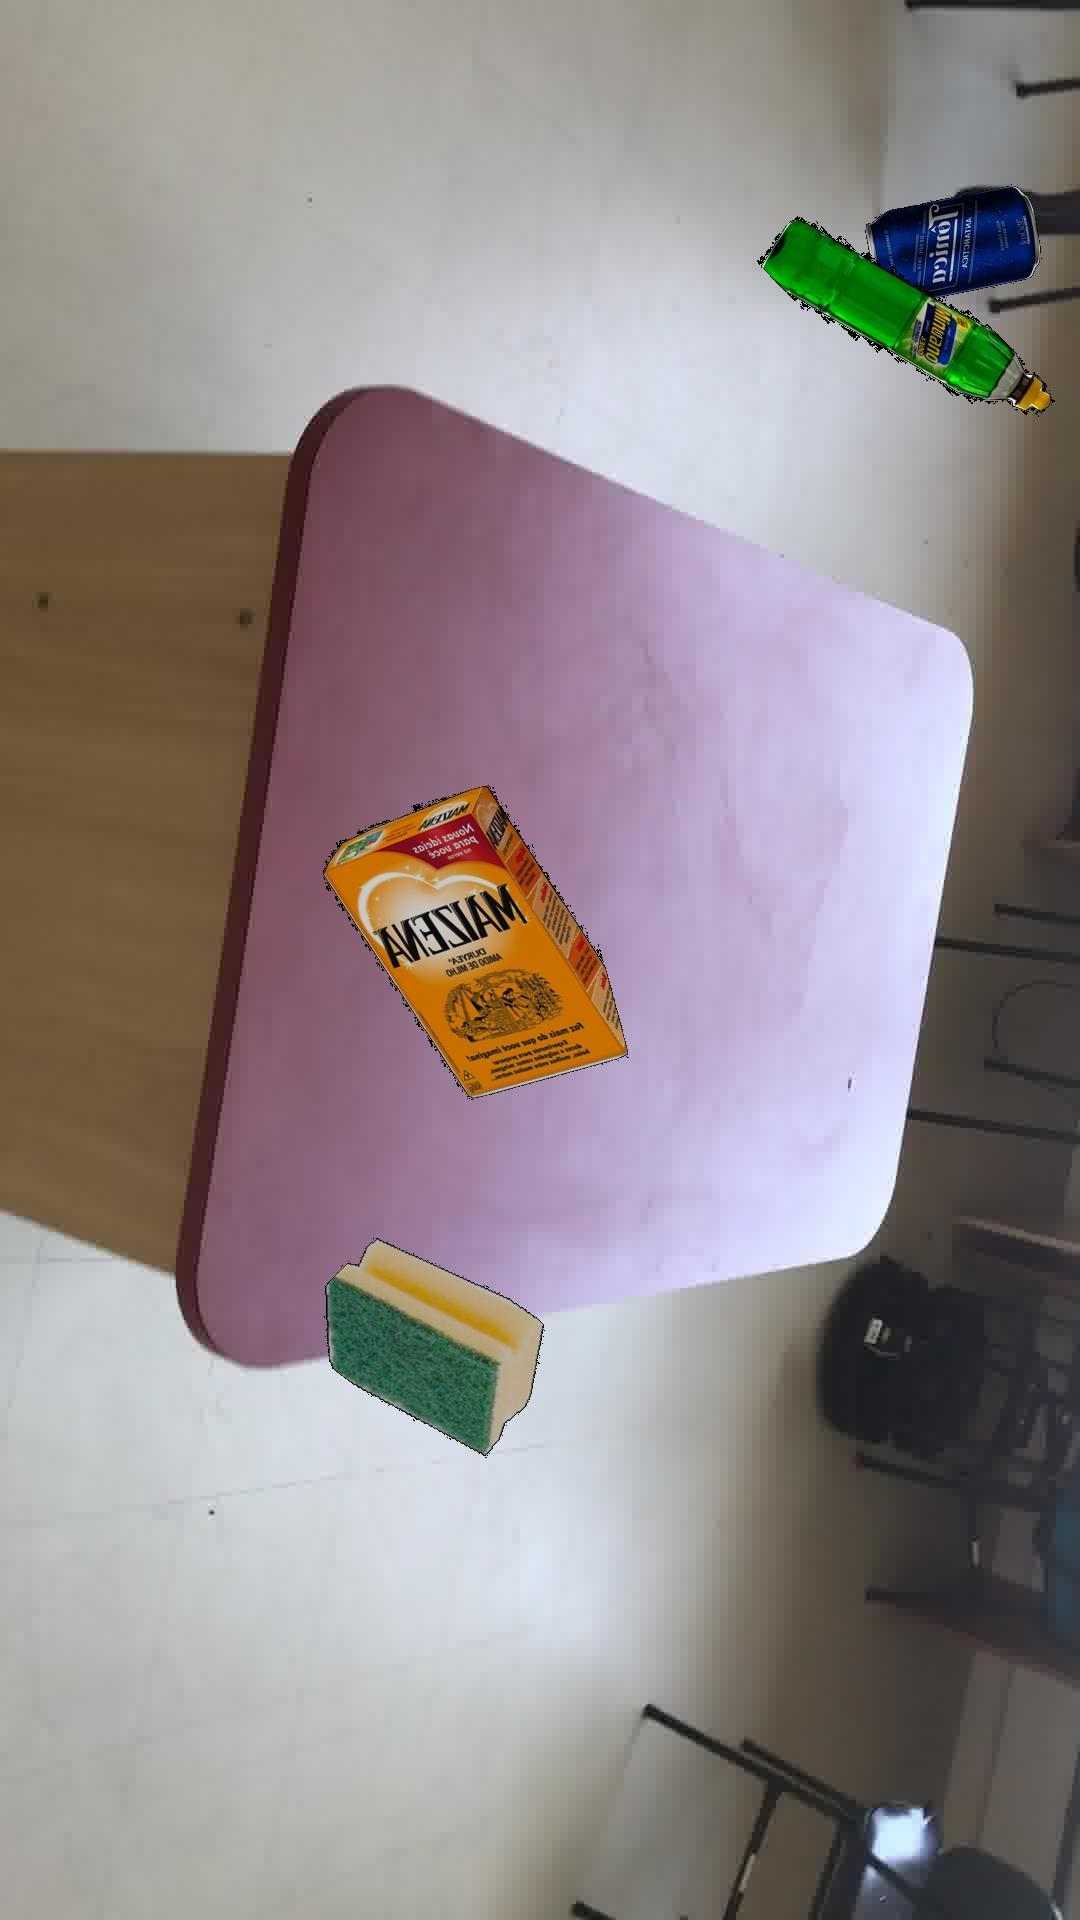cleaner: (756, 215, 1054, 414)
sponge: (323, 1237, 542, 1455)
tonic: (864, 185, 1039, 297)
